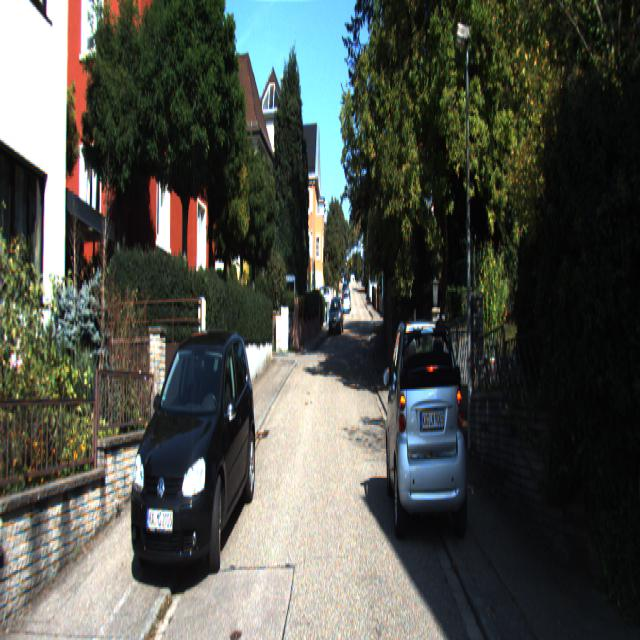Car: (122, 322, 257, 593), (384, 308, 470, 550), (327, 300, 344, 336)
